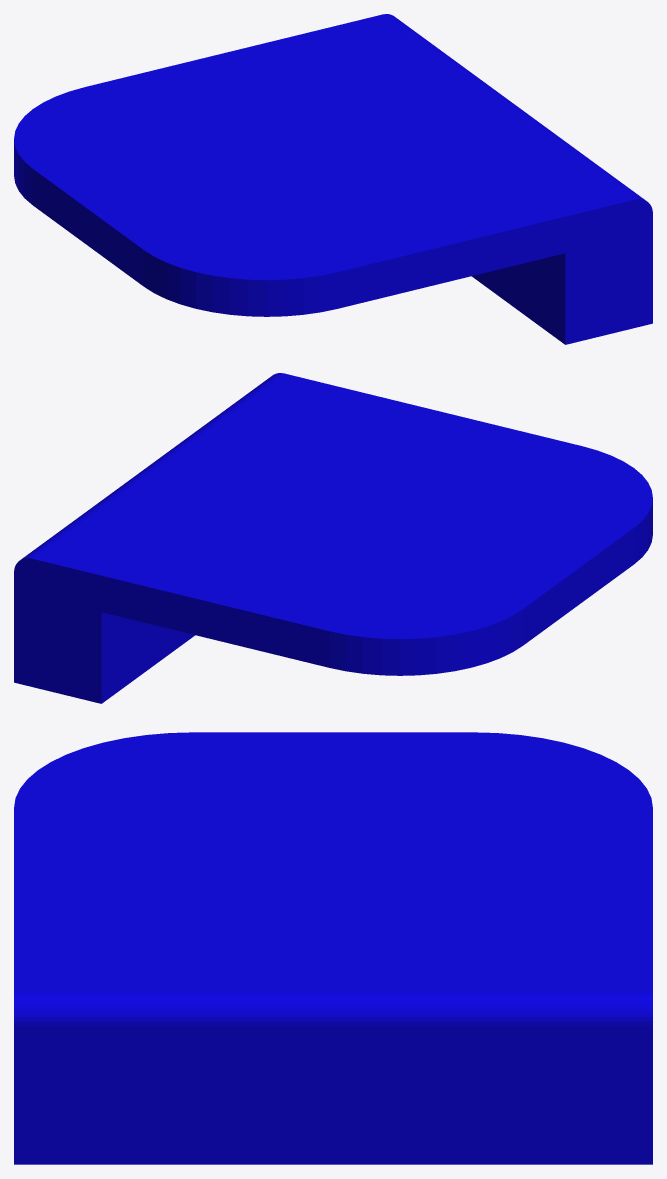
3 renders of one model, top to bottom at view 1: azimuth 30°, elevation 25°; view 2: azimuth 150°, elevation 25°; view 3: azimuth 270°, elevation 25°, orthographic. The views are drawn at different scales.
Visible parts, largest first — view 1: Base Link1; view 2: Base Link1; view 3: Base Link1.
Part boxes in pixels (<box>): Base Link1: <box>14,14,652,344</box>; Base Link1: <box>14,373,652,703</box>; Base Link1: <box>14,732,652,1164</box>.
Size of the model in its own units: 0.25 by 0.25 by 0.07.
